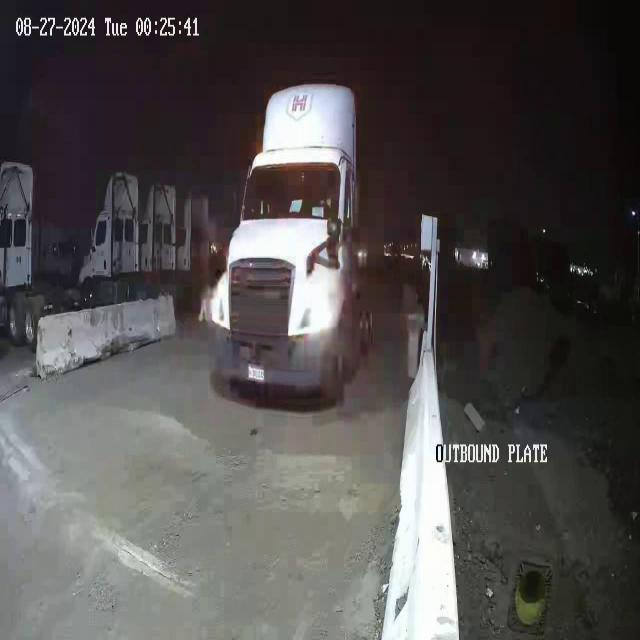TRUCK_OUT: (223, 80, 364, 407)
